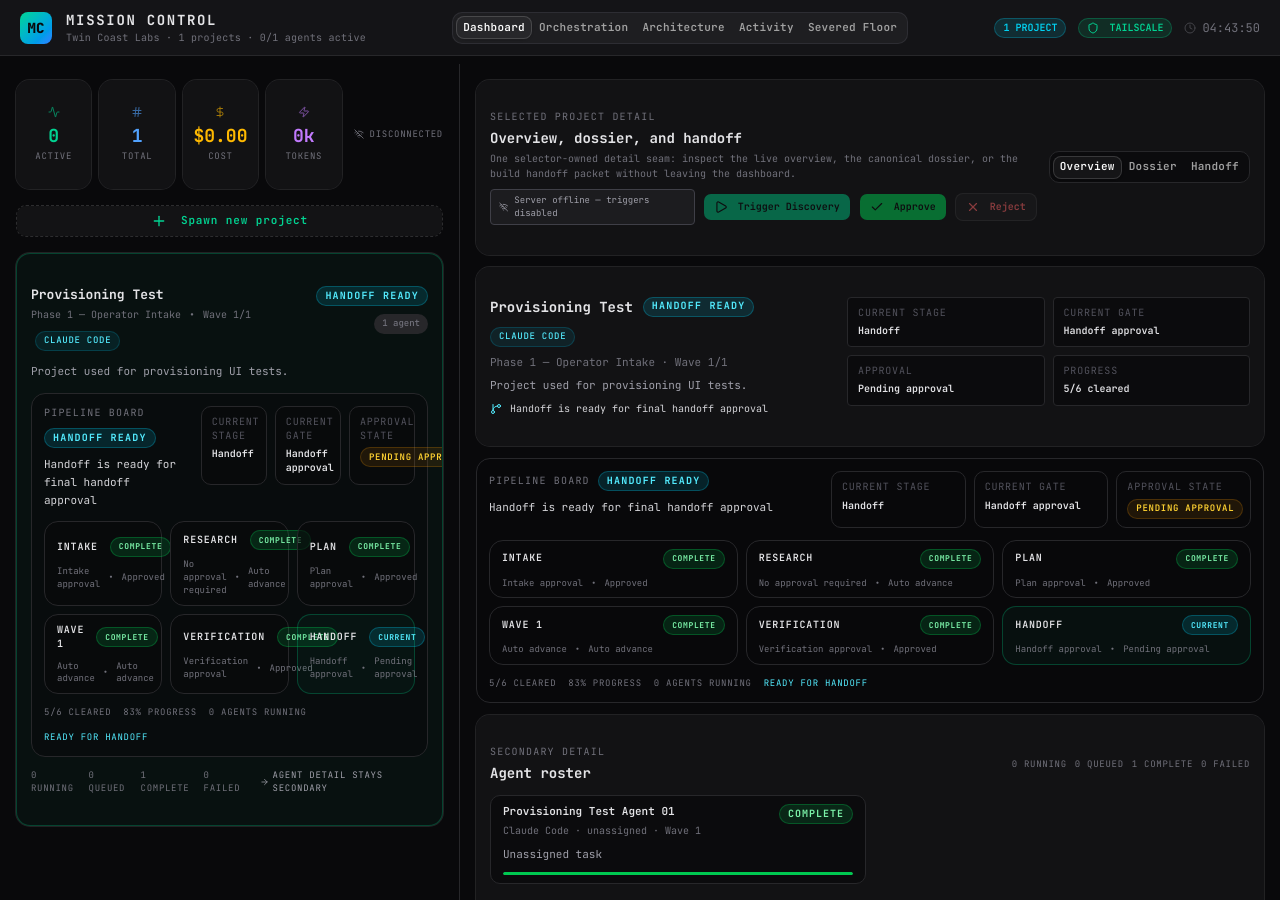
Test: Provisioning UI in HandoffPanel › confirmation dialog › shows plan details when provisioning status is confirming
The width and height of the screenshot is (1280, 900).
Click the tab "Handoff".
click(1215, 167)  # box [1184, 156, 1246, 179]
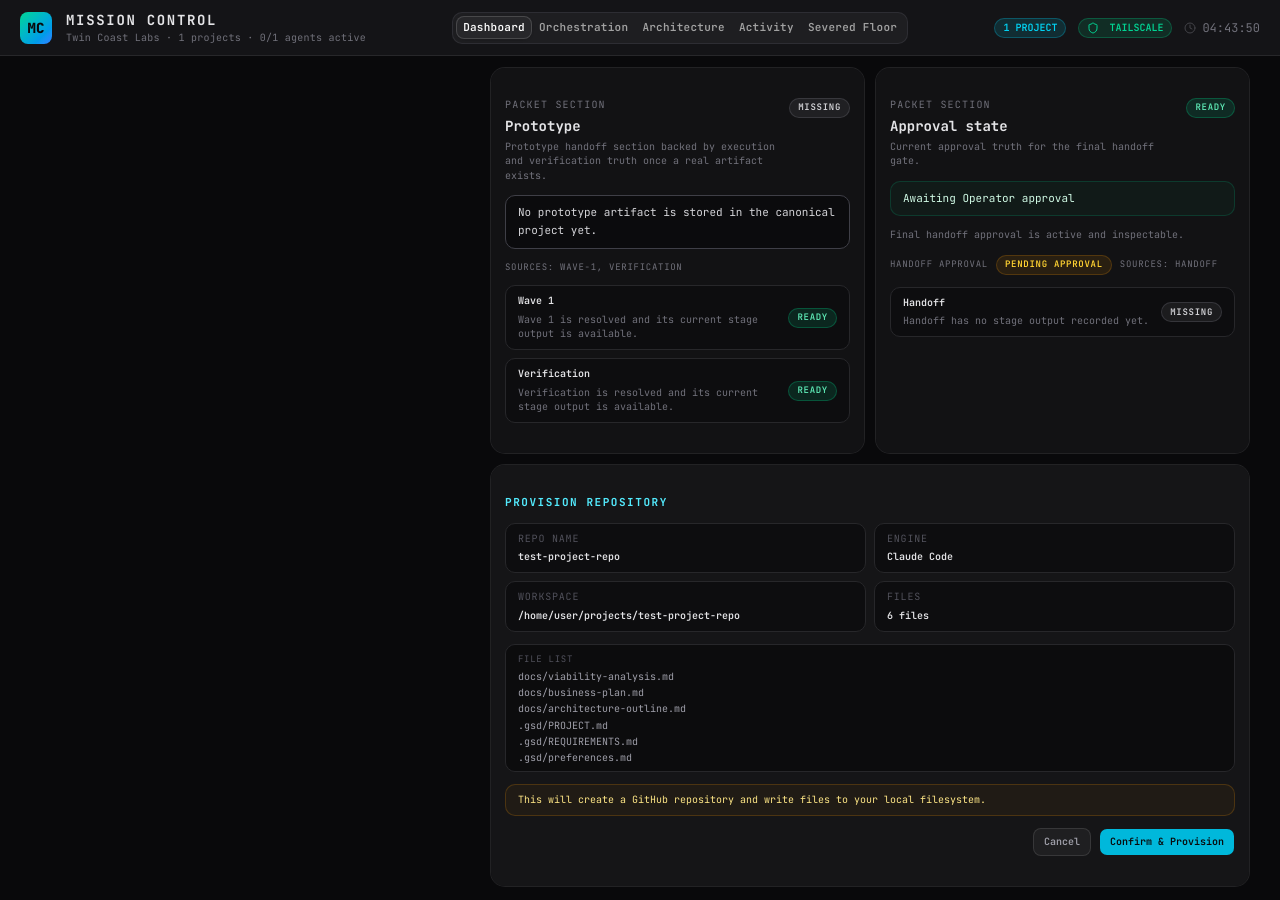
Check: the element with test id "provisioning-confirm-dialog" is shown, box [491, 465, 1249, 886]
Check: the text with test id "provisioning-plan-repo" reads "test-project-repo", box [518, 550, 620, 563]
Check: the text with test id "provisioning-plan-workspace" reads "/home/user/projects/test-project-repo", box [518, 609, 740, 622]
